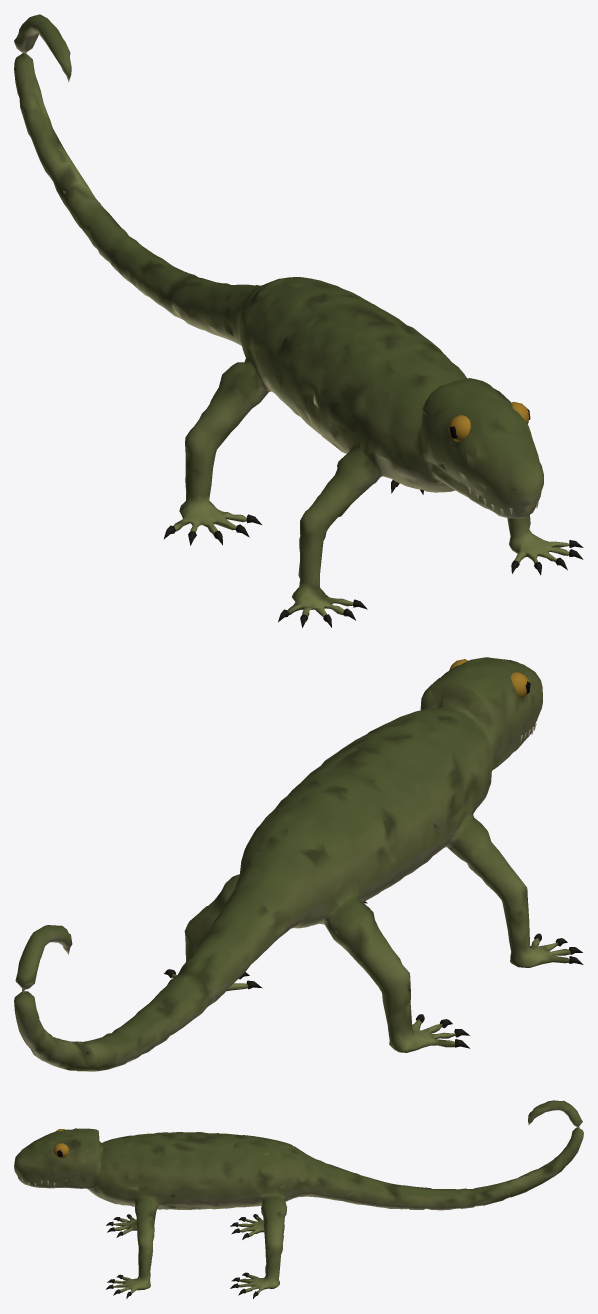
File: Suminia.fbx
3 views of the same model, one above another, from view 1: azimuth 30°, elevation 25°; view 2: azimuth 150°, elevation 25°; view 3: azimuth 270°, elevation 25° (orthographic). The views are drawn at different scales.
Parts seen in each view (by area): view 1: Suminia; view 2: Suminia; view 3: Suminia.
Boxes of the visible parts, x1,y1,x2,y2 form: Suminia: [14, 14, 583, 627]; Suminia: [14, 657, 583, 1071]; Suminia: [14, 1100, 583, 1298].
Bounding box in the file's own units: 0.4911 × 0.4356 × 1.42.
